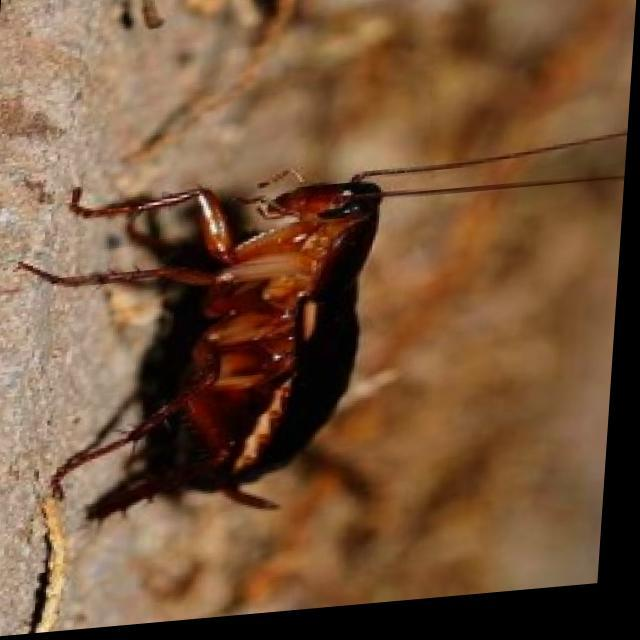cockroach: (13, 166, 389, 525)
